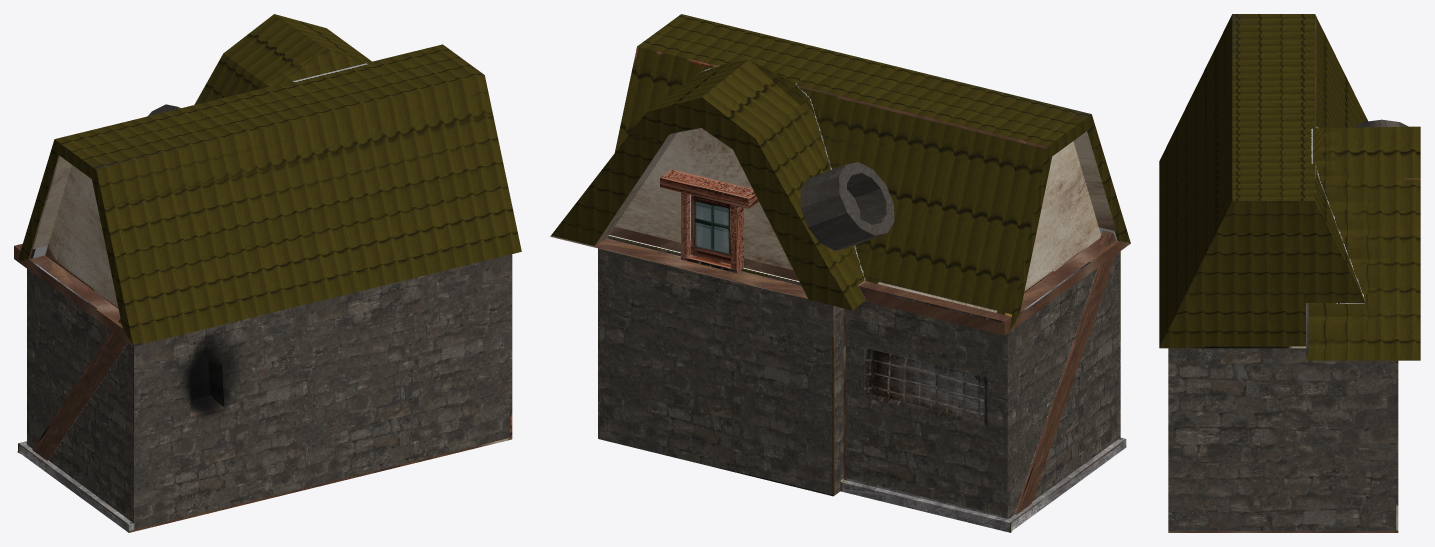
Rendered from craftHouse.glb.
3 renders of one model, left to right at view 1: azimuth 30°, elevation 25°; view 2: azimuth 150°, elevation 25°; view 3: azimuth 270°, elevation 25°, orthographic. The views are drawn at different scales.
Visible parts, largest first — view 1: Cube; view 2: Cube; view 3: Cube.
Boxes of the visible parts, <box> form: Cube: <box>14,14,521,532</box>; Cube: <box>550,14,1130,532</box>; Cube: <box>1159,14,1420,532</box>.
Size of the model in its own units: 11.54 by 9.46 by 6.34.
Materials: 1 (1 with a texture image).
